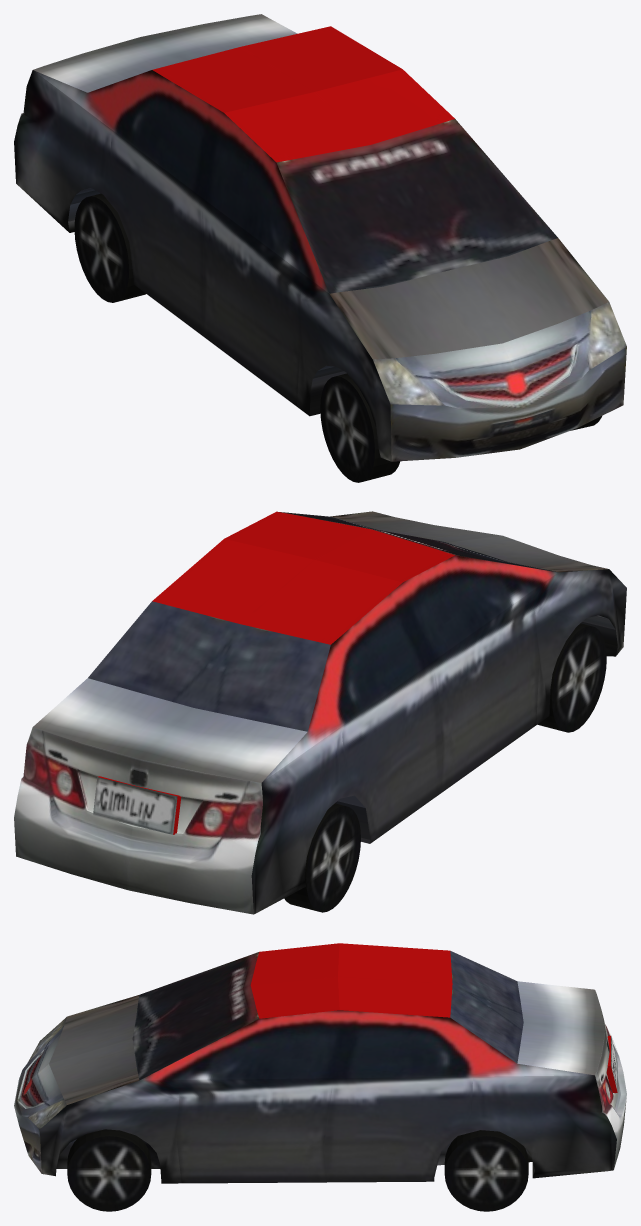
The model's file is car3.glb.
3 renders of one model, top to bottom at view 1: azimuth 30°, elevation 25°; view 2: azimuth 150°, elevation 25°; view 3: azimuth 270°, elevation 25°, orthographic. The views are drawn at different scales.
Visible parts, largest first — view 1: Plane.002; view 2: Plane.002; view 3: Plane.002.
Part boxes in pixels (x1,y1,x2,y2): Plane.002: (14, 14, 626, 482); Plane.002: (14, 511, 626, 914); Plane.002: (14, 943, 626, 1211).
Bounding box in the file's own units: 2.58 × 2.57 × 7.43.
Materials: 2 (2 with a texture image).
